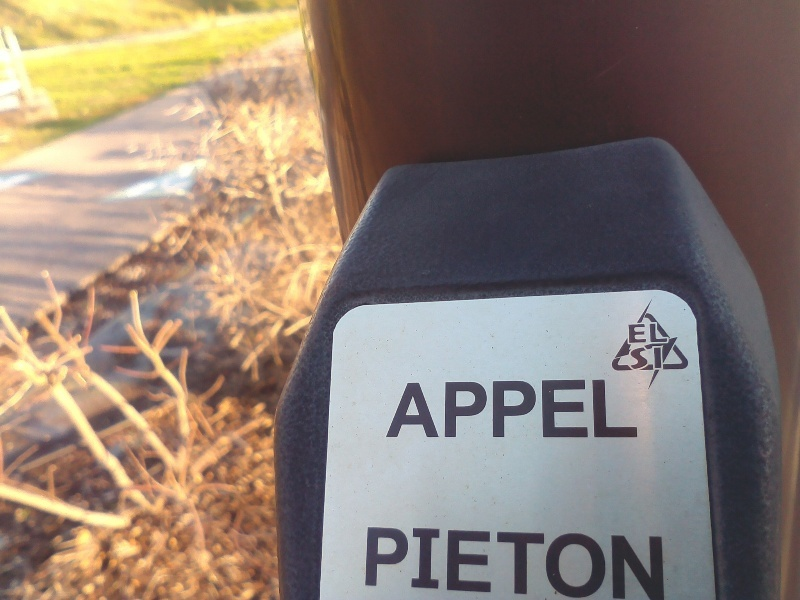text: (369, 526, 384, 600), (385, 526, 400, 600), (401, 526, 416, 600), (417, 526, 432, 600), (433, 526, 448, 600), (449, 526, 464, 600), (465, 526, 480, 600), (481, 526, 496, 600), (497, 526, 512, 600), (513, 526, 528, 600), (529, 526, 544, 600), (545, 526, 560, 600), (561, 526, 576, 600), (577, 526, 592, 600), (593, 526, 608, 600), (609, 526, 624, 600), (625, 526, 640, 600), (641, 526, 656, 600), (417, 378, 432, 440), (433, 378, 448, 440), (449, 378, 464, 440), (465, 378, 480, 440), (481, 378, 496, 440), (497, 378, 512, 440), (513, 378, 528, 440), (529, 378, 544, 440), (545, 378, 560, 440), (561, 378, 576, 440), (577, 378, 592, 440), (593, 378, 608, 440), (609, 378, 624, 440), (625, 378, 640, 440), (657, 526, 665, 600), (407, 378, 416, 440), (641, 347, 656, 370), (641, 322, 656, 344), (628, 322, 640, 344), (657, 322, 668, 344), (630, 347, 640, 370), (657, 347, 663, 370), (367, 526, 368, 600)
